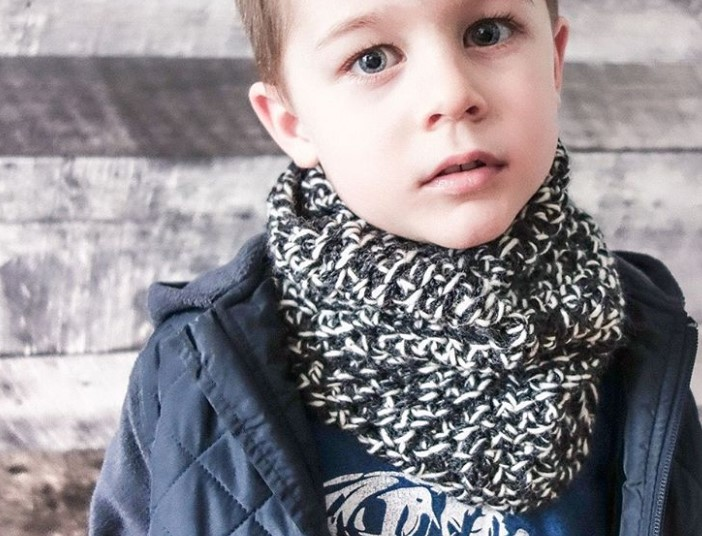face_no_mask: (247, 2, 569, 251)
